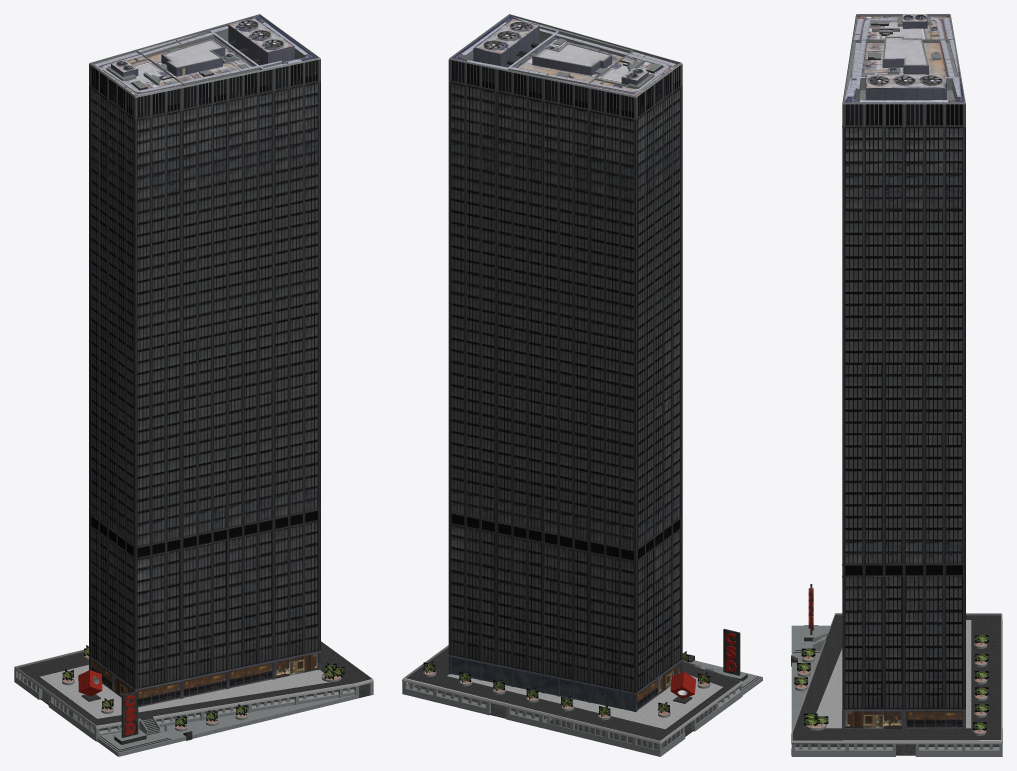
File: skyscrapper.glb
3 views of the same model, side by side, from view 1: azimuth 30°, elevation 25°; view 2: azimuth 150°, elevation 25°; view 3: azimuth 270°, elevation 25° (orthographic). The views are drawn at different scales.
Visible parts, largest first — view 1: Cube.001_1, Edges_7, Cube_0, Cube.003_3, CSD_4, Palm_6; view 2: Cube.001_1, Edges_7, Cube_0, Cube.003_3, Palm_6, CSD_4; view 3: Cube.001_1, Edges_7, Cube_0, Palm_6, Cube.003_3, Planter_5, CSD_4.
Boxes of the visible parts, box(x1,y1,x2,y2) form: Cube.001_1: box(89, 14, 320, 707); Edges_7: box(89, 59, 320, 698); Cube_0: box(14, 643, 373, 756); Cube.003_3: box(14, 641, 373, 727); CSD_4: box(114, 691, 146, 744); Palm_6: box(62, 645, 344, 727); Cube.001_1: box(449, 14, 682, 711); Edges_7: box(448, 56, 682, 712); Cube_0: box(402, 647, 762, 756); Cube.003_3: box(402, 645, 742, 742); Palm_6: box(423, 651, 709, 716); CSD_4: box(716, 629, 747, 681); Cube.001_1: box(842, 14, 965, 728); Edges_7: box(842, 15, 965, 728); Cube_0: box(791, 615, 1002, 756); Palm_6: box(794, 635, 988, 731); Cube.003_3: box(791, 613, 1002, 742); Planter_5: box(795, 642, 987, 735); CSD_4: box(804, 584, 818, 641).
Bounding box in the file's own units: 88.19 × 208 × 61.63.
5 materials, 5 textured.
